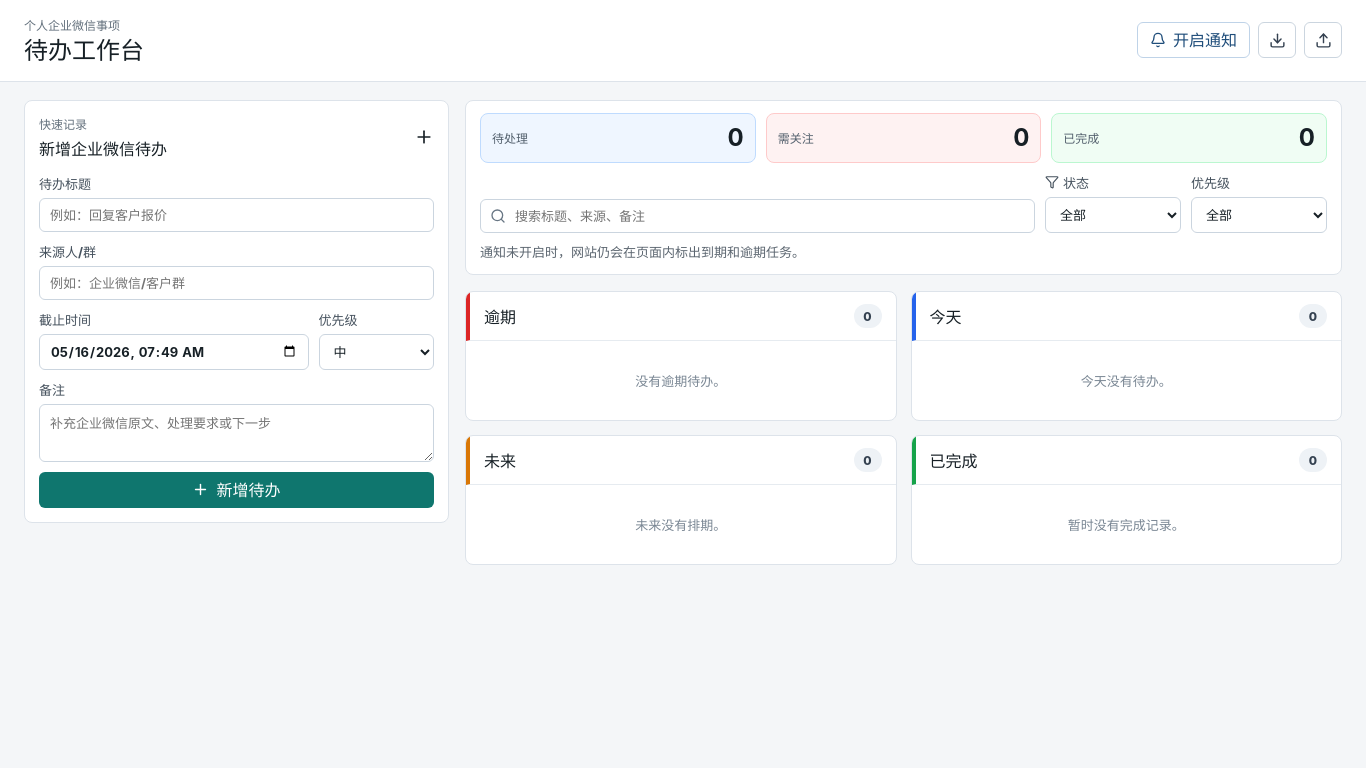
Scenario: App › shows a requesting state while waiting for notification permission
Click the button "开启通知": (1194, 40) [1137,22,1250,58]
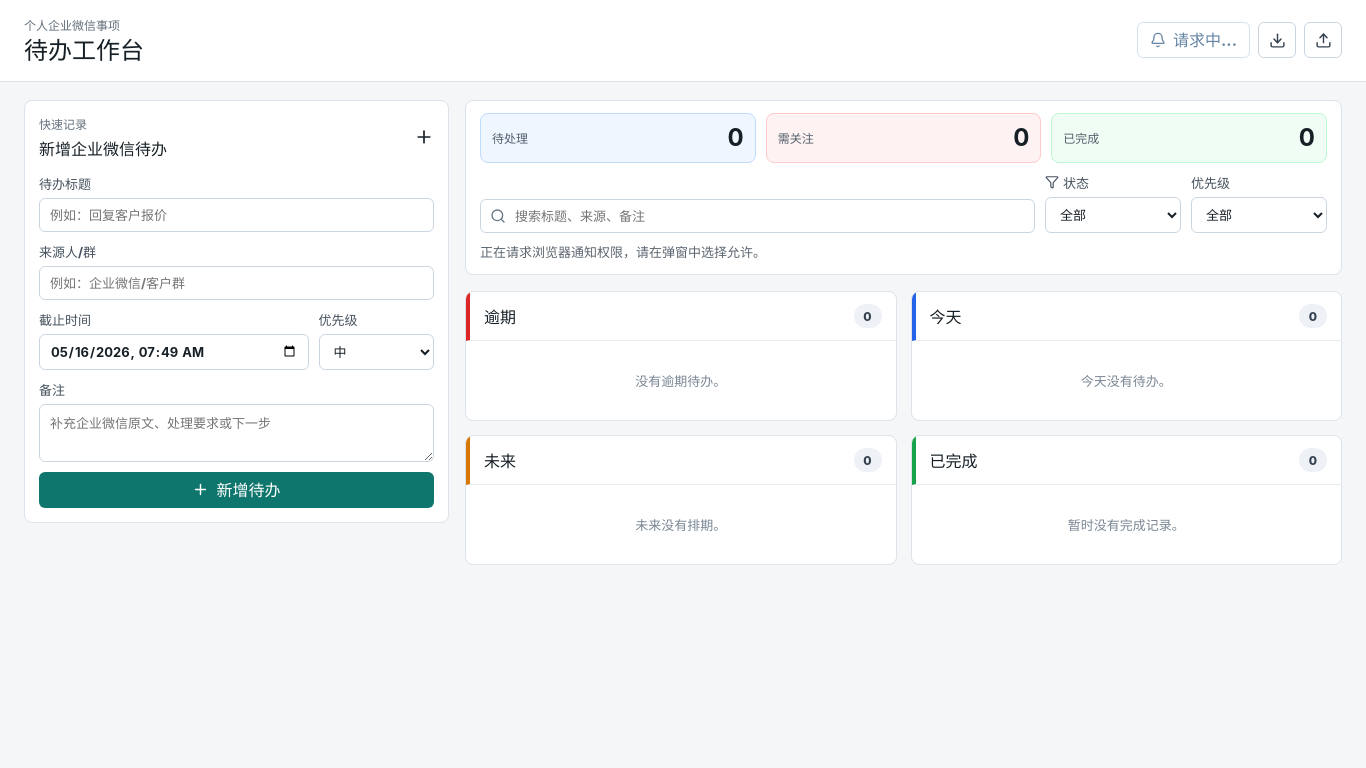
Now the button "请求中..." is disabled, box [1137,22,1250,58]
Now the text "正在请求浏览器通知权限，请在弹窗中选择允许。" is shown, box [480,244,766,260]
